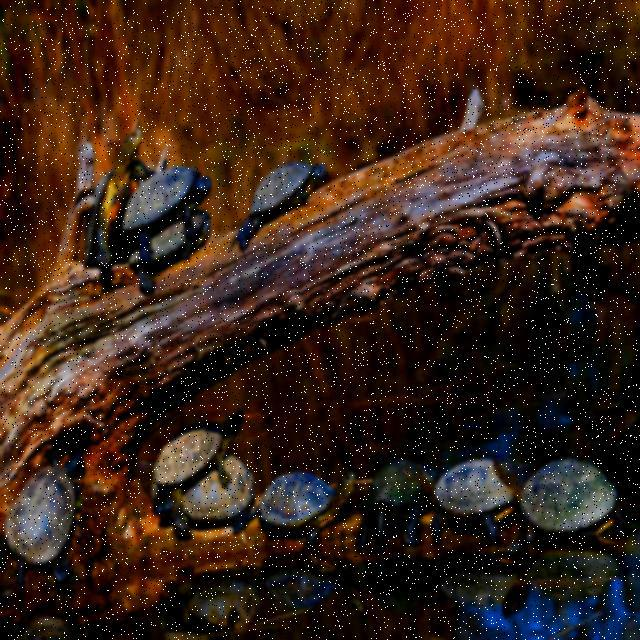tortoise: (233, 156, 331, 252), (115, 160, 213, 250), (520, 452, 614, 536), (6, 466, 74, 570), (168, 458, 252, 542), (134, 215, 214, 293), (433, 456, 509, 522), (150, 435, 234, 487), (262, 476, 338, 532)
